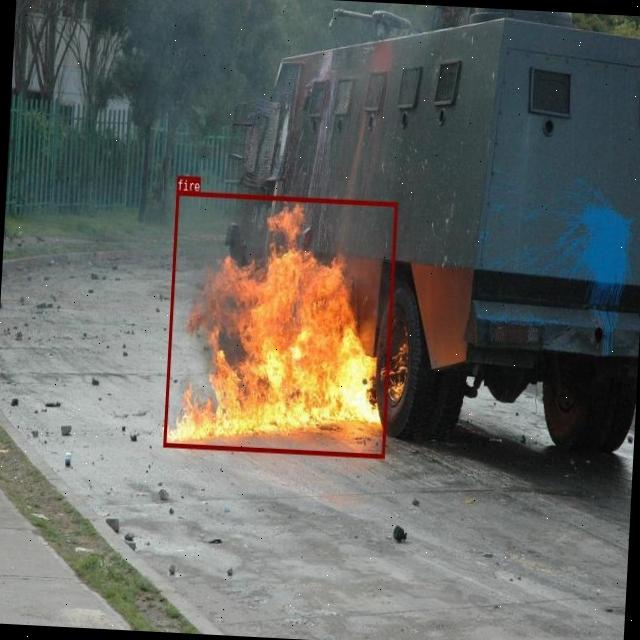fire: (163, 190, 397, 458)
